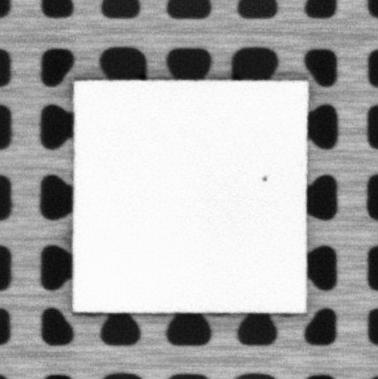DIE_INK: (259, 173, 269, 183)
